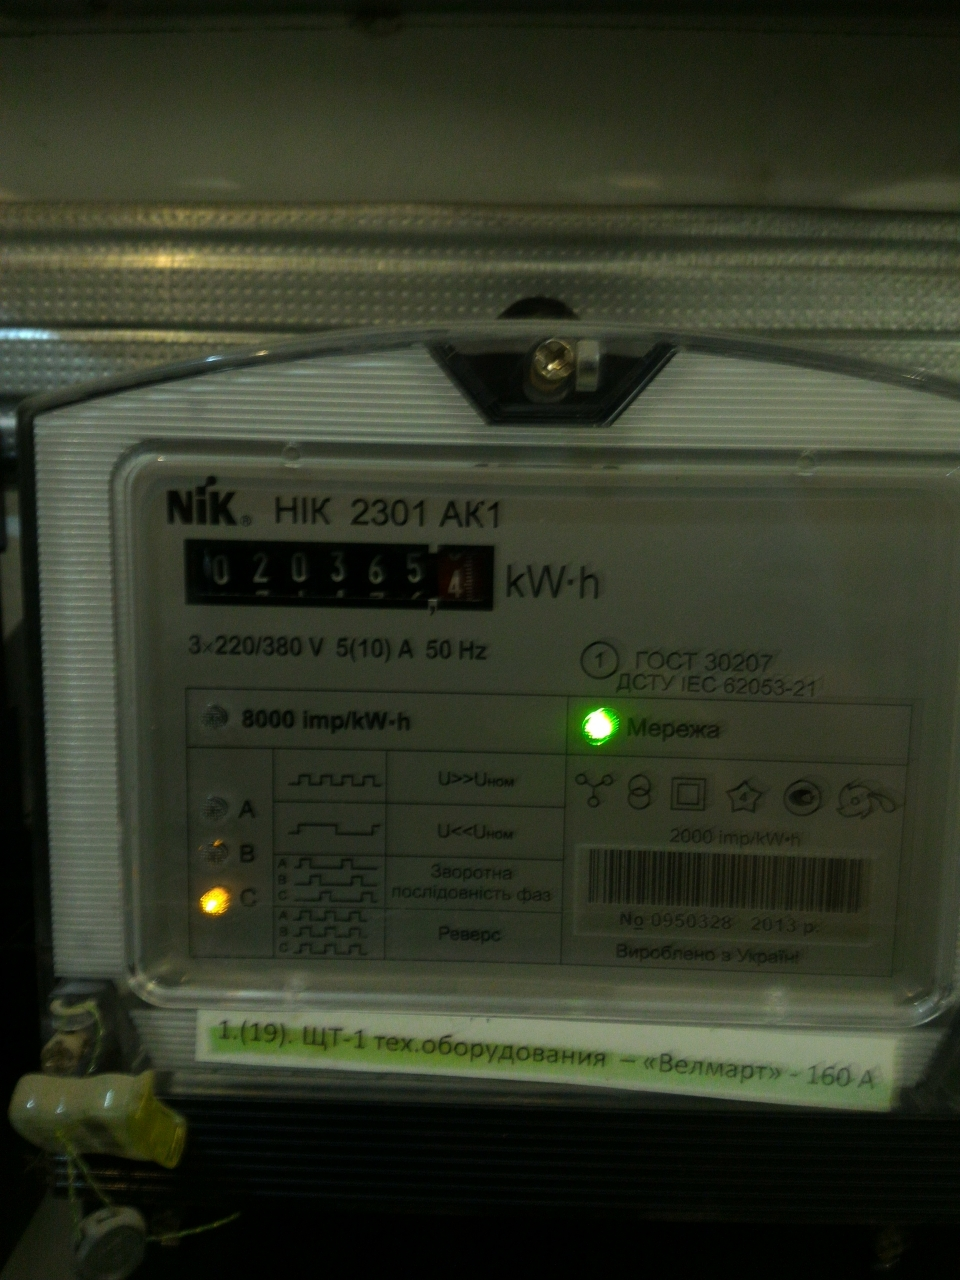0: (209, 552, 231, 586), (288, 549, 308, 584)
2: (249, 551, 271, 585)
3: (327, 547, 347, 584)
4: (445, 568, 465, 599)
5: (405, 549, 425, 586)
6: (365, 551, 385, 586)
screen: (168, 526, 510, 624)
